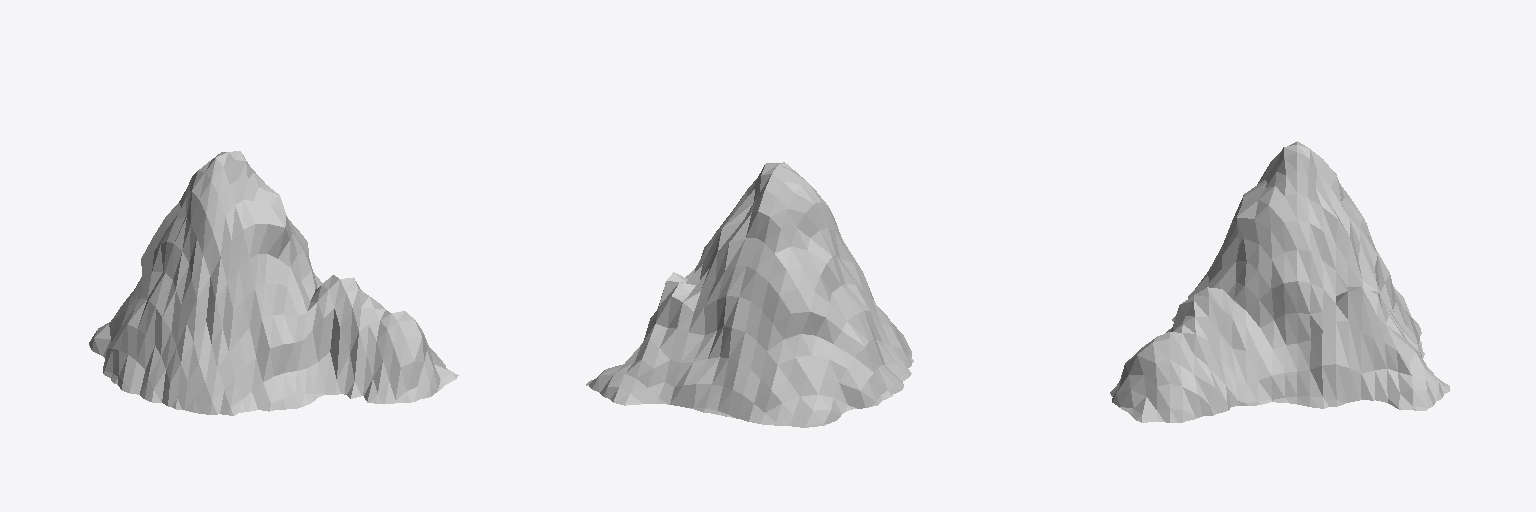
The model's file is Mountain_Grass_01 1_1_0.obj.
The picture shows the model from 3 angles: view 1: azimuth 30°, elevation 25°; view 2: azimuth 150°, elevation 25°; view 3: azimuth 270°, elevation 25°; orthographic projection.
Parts seen in each view (by area): view 1: Mountain_Grass_01 1; view 2: Mountain_Grass_01 1; view 3: Mountain_Grass_01 1.
Part boxes in pixels (left/top/right/bottom): Mountain_Grass_01 1: left=89, top=151, right=458, bottom=415; Mountain_Grass_01 1: left=586, top=162, right=913, bottom=427; Mountain_Grass_01 1: left=1110, top=141, right=1449, bottom=422.
Size of the model in its own units: 115 by 83.78 by 126.